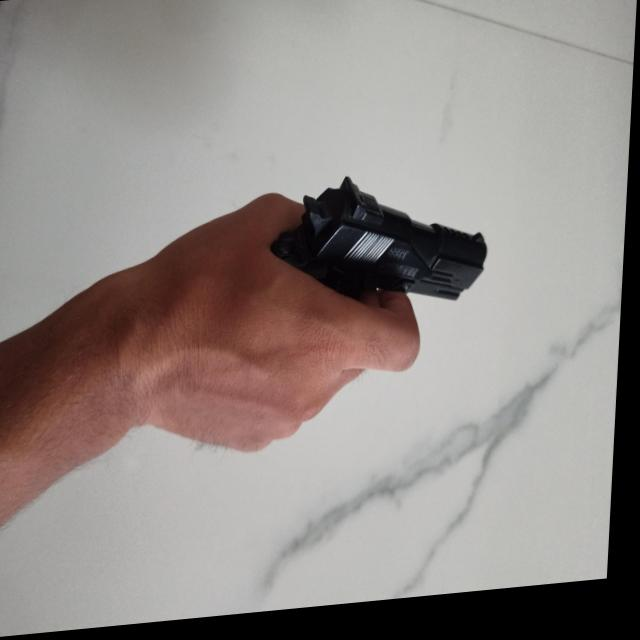handgun: (272, 172, 495, 323)
